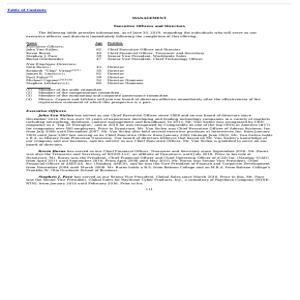text: (23, 16, 270, 191)
